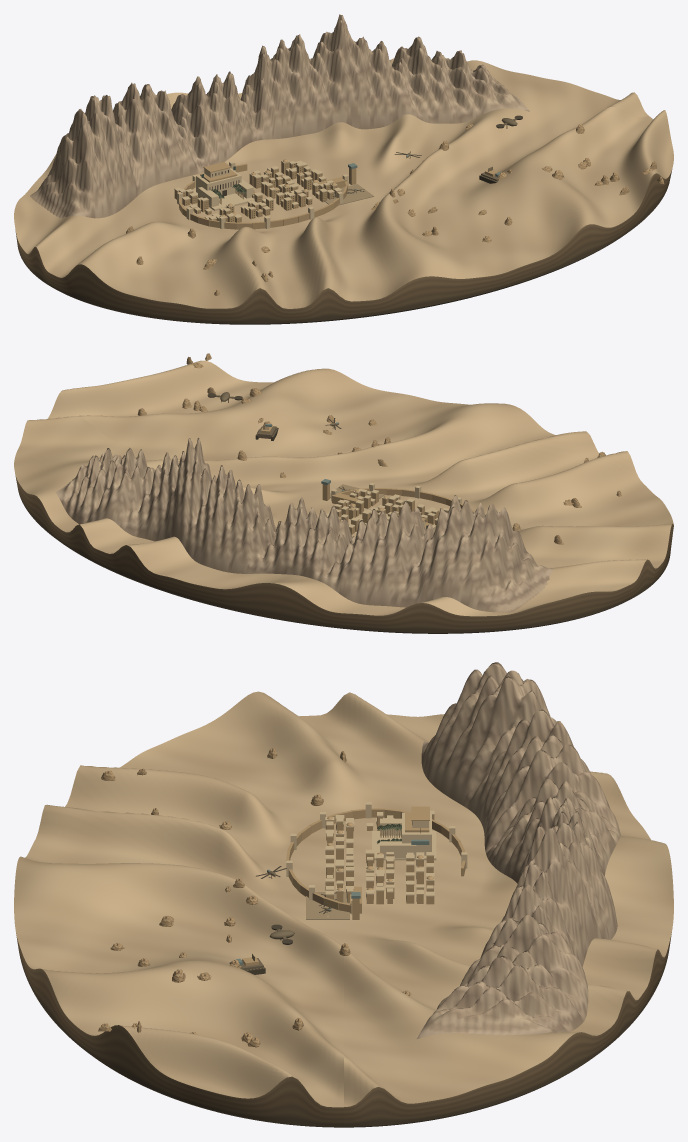
File: arrakis-landscape.glb
3 renders of one model, top to bottom at view 1: azimuth 30°, elevation 25°; view 2: azimuth 150°, elevation 25°; view 3: azimuth 270°, elevation 25°, orthographic. The views are drawn at different scales.
Parts seen in each view (by area): view 1: Sculpted dune terrain, Shield Wall — stratified mountain barrier, Cutaway bedrock strata, City buildings, Parapets, Desert rock outcrops, City perimeter, Basal rock layer, Main residence, Wall towers; view 2: Sculpted dune terrain, Shield Wall — stratified mountain barrier, Cutaway bedrock strata, Desert rock outcrops, City buildings, Parapets, Basal rock layer, City perimeter; view 3: Sculpted dune terrain, Shield Wall — stratified mountain barrier, Cutaway bedrock strata, Parapets, City buildings, Desert rock outcrops, City perimeter, Landing field, Basal rock layer.
Part boxes in pixels (bbox=[...]): Sculpted dune terrain: bbox=[14, 58, 673, 308]; Shield Wall — stratified mountain barrier: bbox=[30, 14, 529, 218]; Cutaway bedrock strata: bbox=[15, 169, 672, 323]; City buildings: bbox=[174, 162, 341, 222]; Parapets: bbox=[174, 160, 341, 219]; Desert rock outcrops: bbox=[126, 124, 663, 295]; City perimeter: bbox=[179, 163, 347, 229]; Basal rock layer: bbox=[65, 236, 622, 324]; Main residence: bbox=[196, 168, 241, 195]; Wall towers: bbox=[177, 161, 348, 229]; Sculpted dune terrain: bbox=[14, 360, 673, 616]; Shield Wall — stratified mountain barrier: bbox=[55, 438, 553, 612]; Cutaway bedrock strata: bbox=[15, 475, 673, 632]; Desert rock outcrops: bbox=[137, 353, 621, 544]; City buildings: bbox=[335, 492, 447, 534]; Parapets: bbox=[326, 489, 449, 528]; Basal rock layer: bbox=[66, 546, 618, 633]; City perimeter: bbox=[339, 488, 474, 512]; Sculpted dune terrain: bbox=[14, 691, 673, 1107]; Shield Wall — stratified mountain barrier: bbox=[417, 662, 620, 1038]; Cutaway bedrock strata: bbox=[16, 932, 671, 1126]; Parapets: bbox=[325, 810, 434, 896]; City buildings: bbox=[325, 815, 434, 904]; Desert rock outcrops: bbox=[98, 748, 411, 1047]; City perimeter: bbox=[286, 808, 465, 913]; Landing field: bbox=[306, 892, 349, 919]; Basal rock layer: bbox=[104, 1064, 583, 1127].
Bounding box in the file's own units: 232 × 42.89 × 164.
